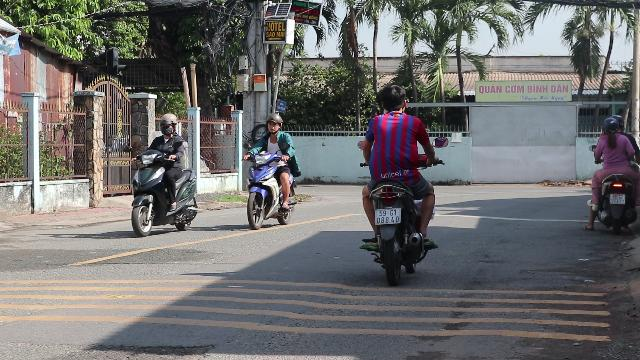helmet: (158, 113, 178, 135), (600, 116, 620, 136), (265, 113, 283, 133)
licenseplate: (374, 208, 400, 224), (610, 194, 624, 204)
motorcyclist: (353, 82, 441, 280), (126, 111, 200, 237), (242, 112, 302, 229), (584, 114, 640, 234)
nohelmet: (376, 84, 408, 115)
